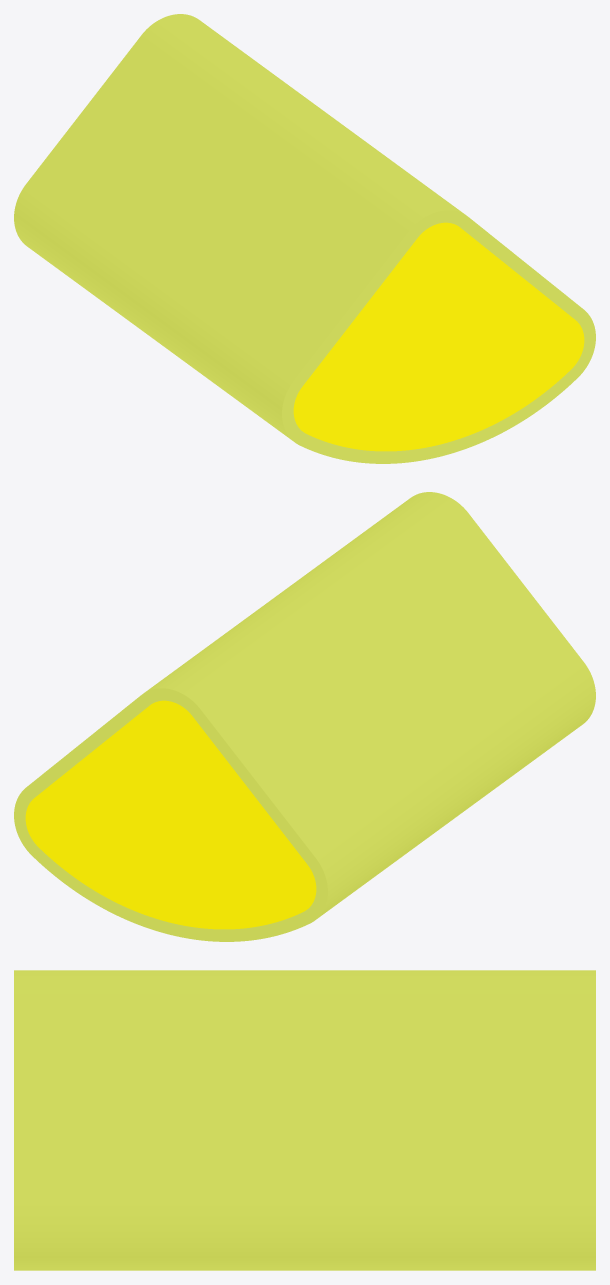
Rendered from dot4.glb.
3 views of the same model, one above another, from view 1: azimuth 30°, elevation 25°; view 2: azimuth 150°, elevation 25°; view 3: azimuth 270°, elevation 25° (orthographic). The views are drawn at different scales.
Parts seen in each view (by area): view 1: Asset 92; view 2: Asset 92; view 3: Asset 92.
Boxes of the visible parts, x1=… form: Asset 92: x1=14, y1=14, x2=595, y2=463; Asset 92: x1=14, y1=492, x2=595, y2=941; Asset 92: x1=14, y1=970, x2=595, y2=1270.
Bounding box in the file's own units: 1.42 × 1.06 × 2.1.
